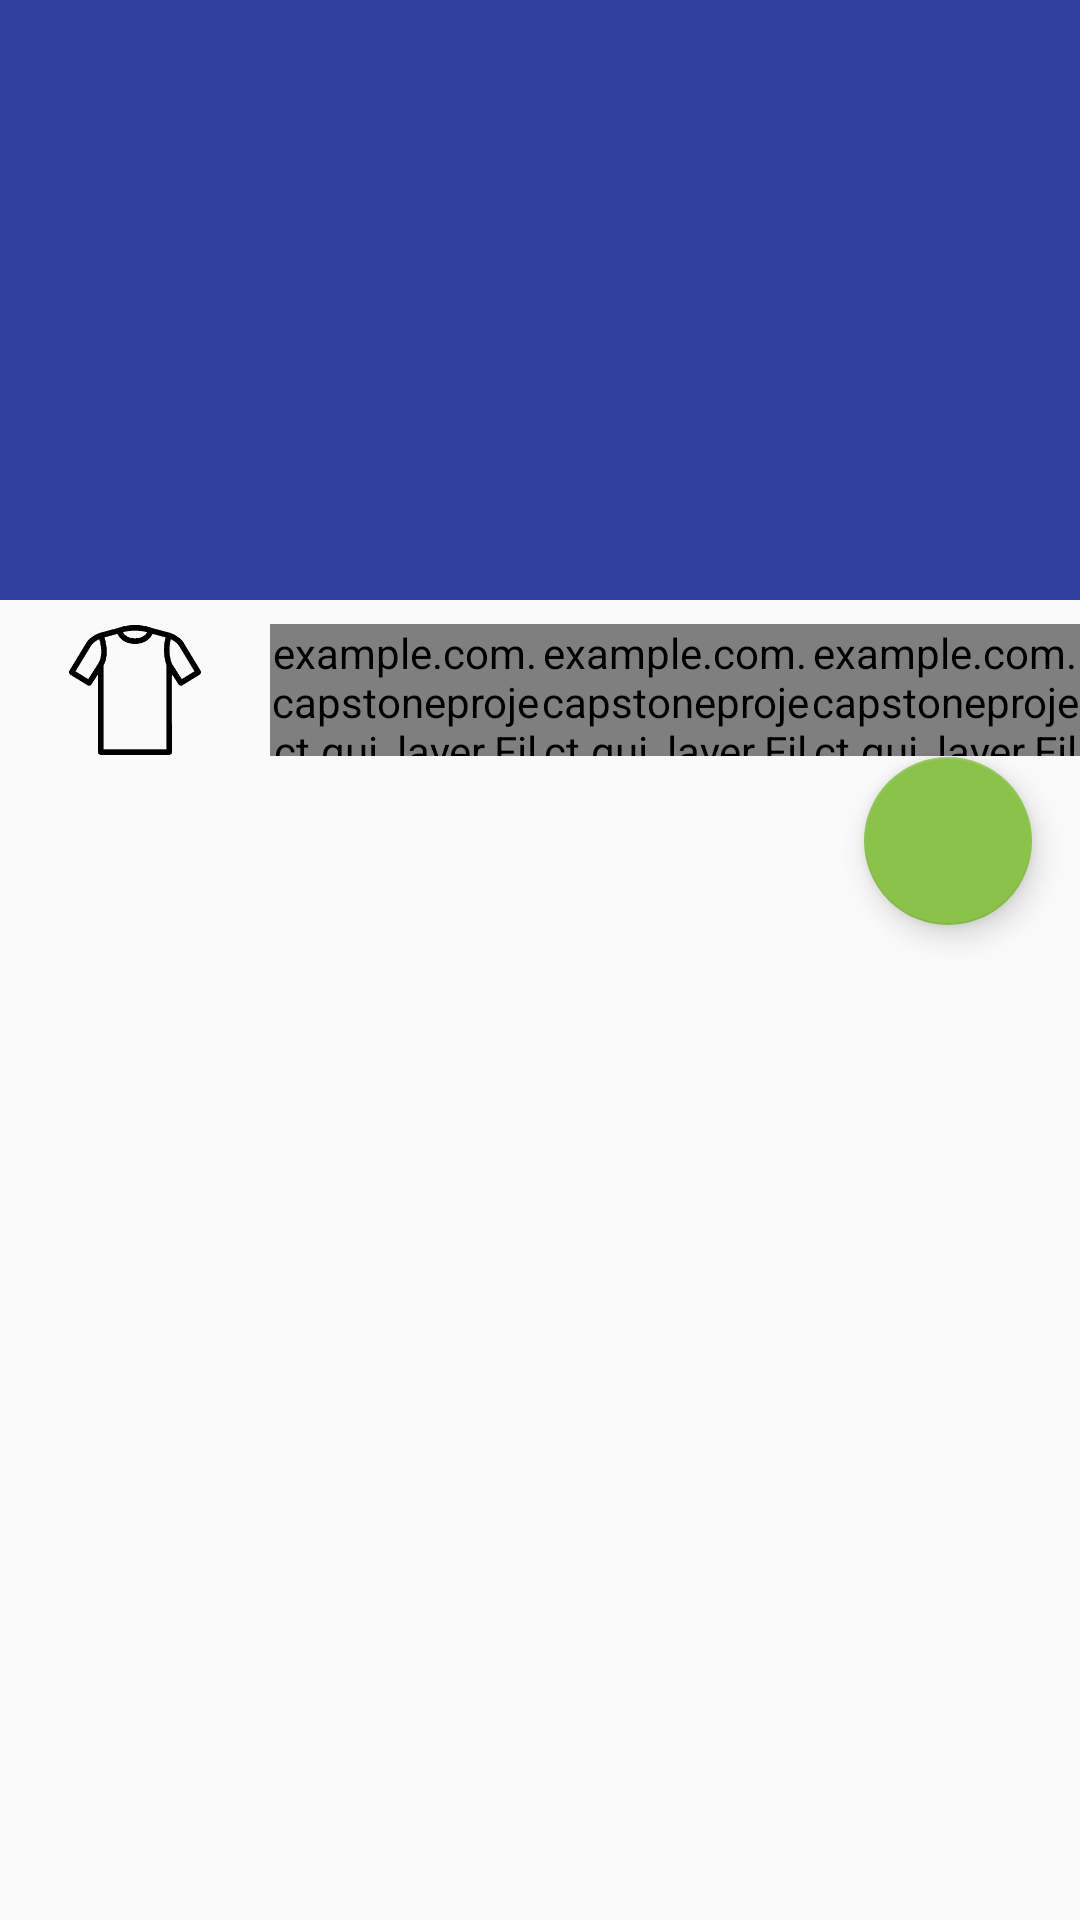

Icon bounding boxes for this 1080*1920 phone screenshot, format (x1, y1, x2, y2):
shirt: (69, 625, 201, 755)
